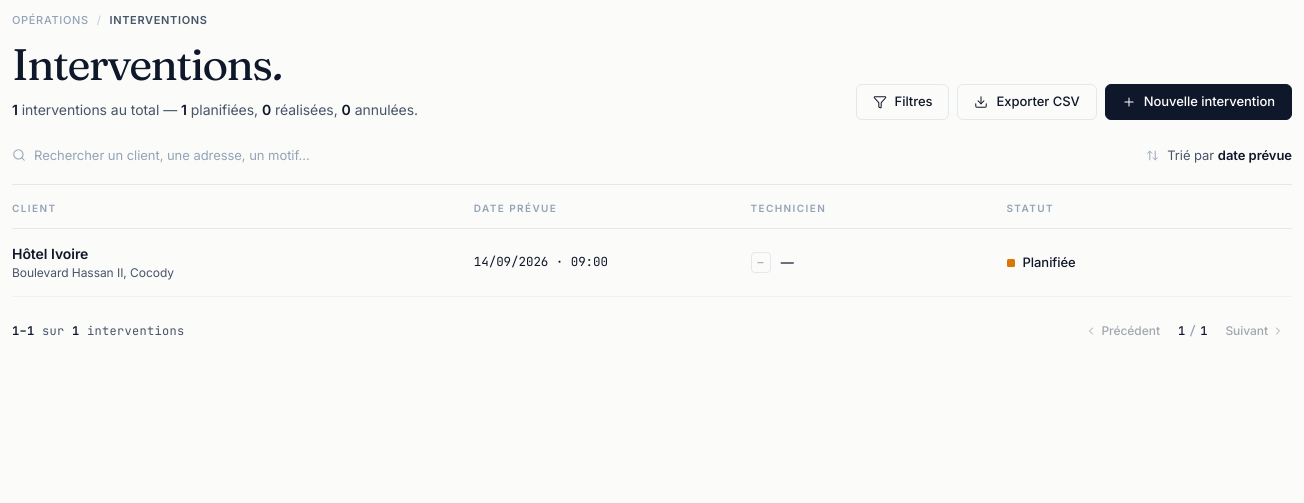
Test case: InterventionsListe › affiche un message distinct quand un filtre ne trouve aucun resultat
Expected: the text "Hôtel Ivoire" is shown, [12,245,88,262]
Type "introuvable" into the field named "Rechercher une intervention" at (183, 155), box [34,146,332,165]
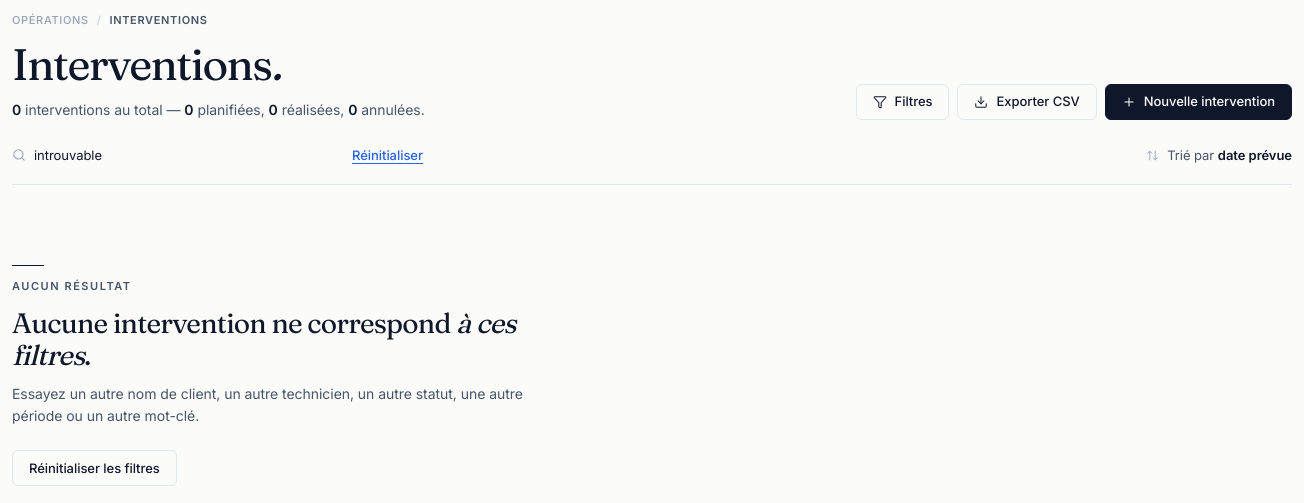
Now the heading "Aucune intervention ne correspond à ces filtres." is shown, box [12,307,532,371]
Now the button "Réinitialiser les filtres" is shown, box [12,450,177,486]
